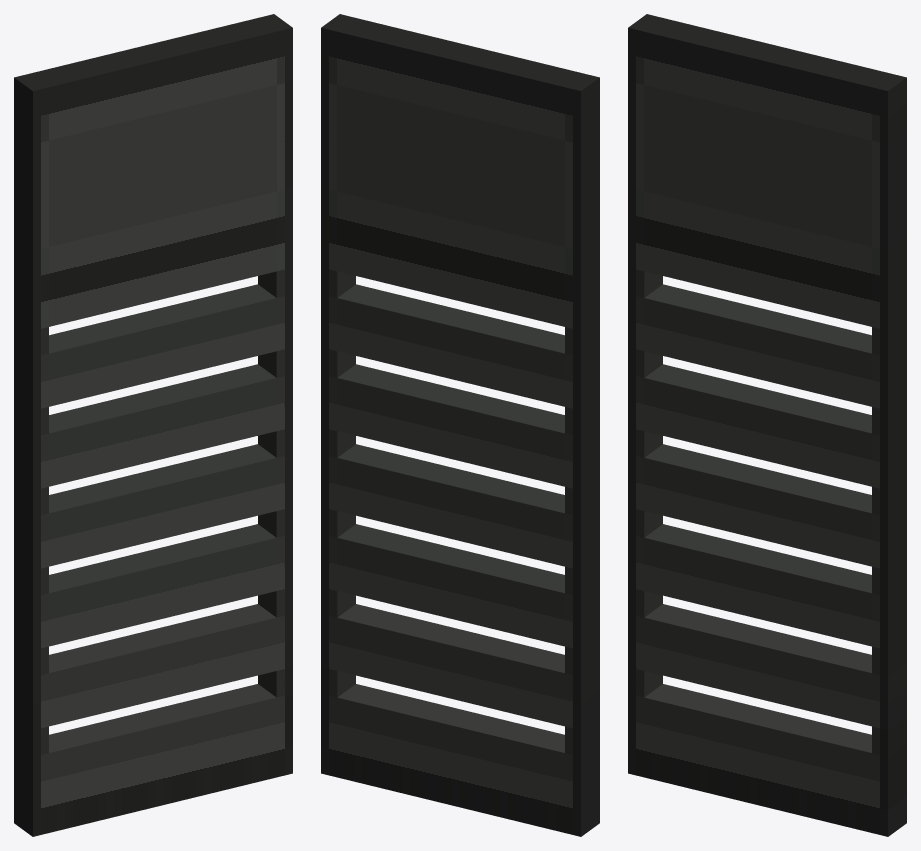
The model's file is CMU3DHybrisaWindowShutter.glb.
3 renders of one model, left to right at view 1: azimuth 30°, elevation 25°; view 2: azimuth 150°, elevation 25°; view 3: azimuth 330°, elevation 25°, orthographic.
Parts seen in each view (by area): view 1: opaque source rectangle 0:4:32:5, opaque source rectangle 0:25:32:3, opaque source rectangle 0:0:32:2, opaque source rectangle 0:22:32:2, opaque source rectangle 2:13:28:2, opaque source rectangle 2:19:28:2, opaque source rectangle 0:2:32:2, opaque source rectangle 0:16:32:1, opaque source rectangle 0:10:32:1, opaque source rectangle 0:11:32:1, opaque source rectangle 0:17:32:1, opaque source rectangle 0:18:2:4 (+7 smaller); view 2: opaque source rectangle 0:4:32:5, opaque source rectangle 0:25:32:3, opaque source rectangle 0:0:32:2, opaque source rectangle 0:22:32:2, opaque source rectangle 2:13:28:2, opaque source rectangle 2:19:28:2, opaque source rectangle 0:2:32:2, opaque source rectangle 0:16:32:1, opaque source rectangle 0:10:32:1, opaque source rectangle 0:11:32:1, opaque source rectangle 0:17:32:1, opaque source rectangle 0:18:2:4 (+7 smaller); view 3: opaque source rectangle 0:4:32:5, opaque source rectangle 0:25:32:3, opaque source rectangle 0:0:32:2, opaque source rectangle 0:22:32:2, opaque source rectangle 2:13:28:2, opaque source rectangle 2:19:28:2, opaque source rectangle 0:2:32:2, opaque source rectangle 0:16:32:1, opaque source rectangle 0:10:32:1, opaque source rectangle 0:11:32:1, opaque source rectangle 0:17:32:1, opaque source rectangle 30:18:2:4 (+7 smaller).
Boxes of the visible parts, x1=… form: opaque source rectangle 0:4:32:5: x1=14, y1=134, x2=292, y2=330; opaque source rectangle 0:25:32:3: x1=14, y1=684, x2=292, y2=836; opaque source rectangle 0:0:32:2: x1=14, y1=14, x2=292, y2=144; opaque source rectangle 0:22:32:2: x1=14, y1=604, x2=292, y2=730; opaque source rectangle 2:13:28:2: x1=49, y1=364, x2=276, y2=486; opaque source rectangle 2:19:28:2: x1=49, y1=524, x2=276, y2=646; opaque source rectangle 0:2:32:2: x1=14, y1=81, x2=292, y2=197; opaque source rectangle 0:16:32:1: x1=14, y1=444, x2=292, y2=543; opaque source rectangle 0:10:32:1: x1=14, y1=284, x2=292, y2=383; opaque source rectangle 0:11:32:1: x1=14, y1=321, x2=292, y2=410; opaque source rectangle 0:17:32:1: x1=14, y1=480, x2=292, y2=570; opaque source rectangle 0:18:2:4: x1=14, y1=557, x2=48, y2=676; opaque source rectangle 0:4:32:5: x1=321, y1=134, x2=599, y2=330; opaque source rectangle 0:25:32:3: x1=321, y1=684, x2=599, y2=836; opaque source rectangle 0:0:32:2: x1=321, y1=14, x2=599, y2=144; opaque source rectangle 0:22:32:2: x1=321, y1=604, x2=599, y2=730; opaque source rectangle 2:13:28:2: x1=337, y1=364, x2=564, y2=486; opaque source rectangle 2:19:28:2: x1=337, y1=524, x2=564, y2=646; opaque source rectangle 0:2:32:2: x1=321, y1=81, x2=599, y2=197; opaque source rectangle 0:16:32:1: x1=321, y1=444, x2=599, y2=543; opaque source rectangle 0:10:32:1: x1=321, y1=284, x2=599, y2=383; opaque source rectangle 0:11:32:1: x1=321, y1=321, x2=599, y2=410; opaque source rectangle 0:17:32:1: x1=321, y1=480, x2=599, y2=570; opaque source rectangle 0:18:2:4: x1=565, y1=557, x2=599, y2=676; opaque source rectangle 0:4:32:5: x1=628, y1=134, x2=906, y2=330; opaque source rectangle 0:25:32:3: x1=628, y1=684, x2=906, y2=836; opaque source rectangle 0:0:32:2: x1=628, y1=14, x2=906, y2=144; opaque source rectangle 0:22:32:2: x1=628, y1=604, x2=906, y2=730; opaque source rectangle 2:13:28:2: x1=644, y1=364, x2=871, y2=486; opaque source rectangle 2:19:28:2: x1=644, y1=524, x2=871, y2=646; opaque source rectangle 0:2:32:2: x1=628, y1=81, x2=906, y2=197; opaque source rectangle 0:16:32:1: x1=628, y1=444, x2=906, y2=543; opaque source rectangle 0:10:32:1: x1=628, y1=284, x2=906, y2=383; opaque source rectangle 0:11:32:1: x1=628, y1=321, x2=906, y2=410; opaque source rectangle 0:17:32:1: x1=628, y1=480, x2=906, y2=570; opaque source rectangle 30:18:2:4: x1=872, y1=557, x2=906, y2=676.
Size of what is drawn, in the model's own units: 1 by 2.74 by 0.125.
14 materials, 14 textured.
